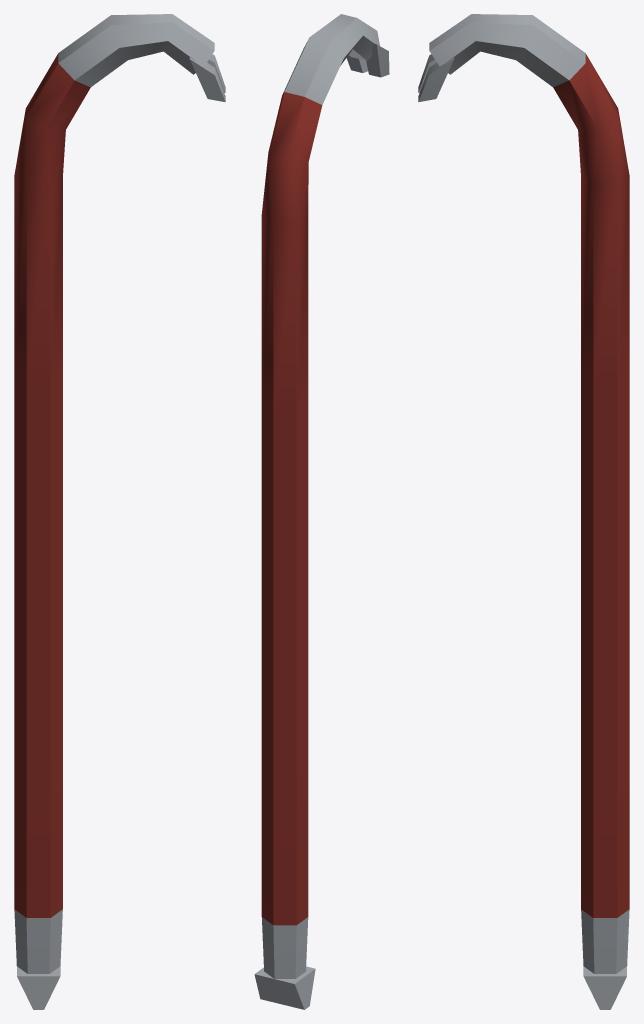
Rendered from crowbar.glb.
3 views of the same model, side by side, from view 1: azimuth 90°, elevation 25°; view 2: azimuth 150°, elevation 25°; view 3: azimuth 270°, elevation 25° (orthographic). The views are drawn at different scales.
Visible parts, largest first — view 1: Weapon; view 2: Weapon; view 3: Weapon.
Part boxes in pixels (<box>): Weapon: <box>14,14,225,1009</box>; Weapon: <box>254,14,389,1009</box>; Weapon: <box>418,14,629,1009</box>.
Size of the model in its own units: 0.0297 by 0.602 by 0.1175.
